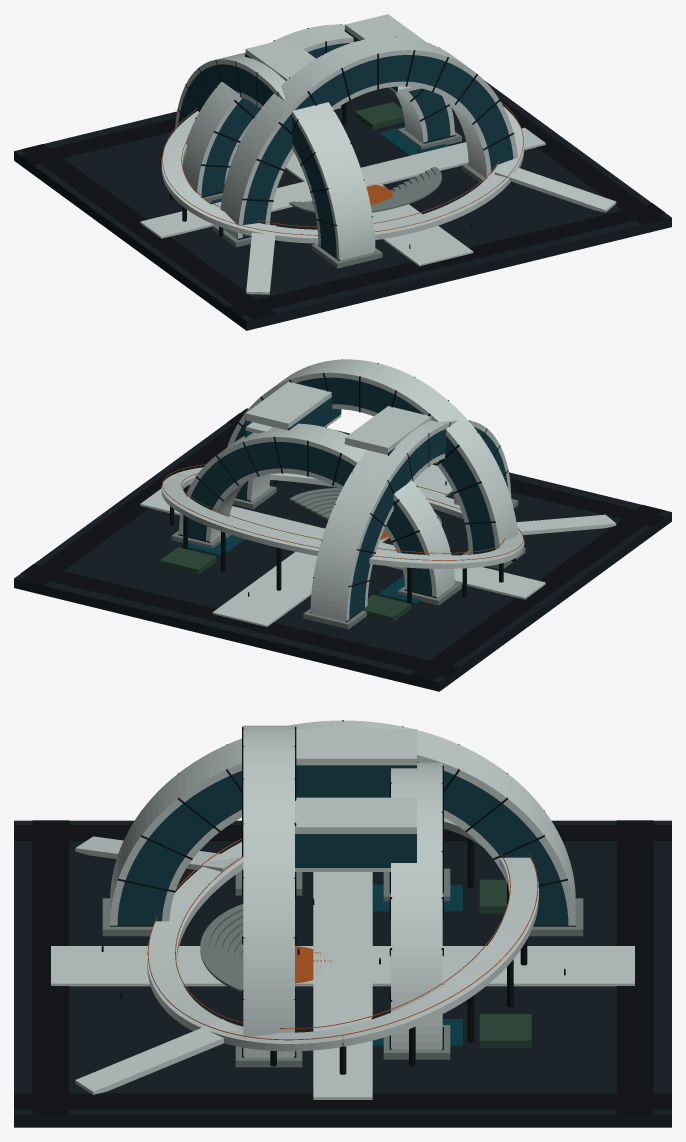
The model's file is a5_orbital_commons.obj.
3 renders of one model, top to bottom at view 1: azimuth 30°, elevation 25°; view 2: azimuth 150°, elevation 25°; view 3: azimuth 270°, elevation 25°, orthographic. The views are drawn at different scales.
Parts seen in each view (by area): view 1: District_base, SOUTH_continuous_glazed_occupied_band, SOUTH_outer_load_shell, TRANSVERSE_outer_load_shell, Continuous_elliptical_public_promenade, E-W_road, Public_ground,_continuous_E-W_axis, N-S_road, TRANSVERSE_glazed_occupied_band.001, NORTH_outer_load_shell, NORTH_continuous_glazed_occupied_band, Public_ground,_continuous_N-S_axis (+12 smaller); view 2: District_base, TRANSVERSE_outer_load_shell, SOUTH_outer_load_shell, Continuous_elliptical_public_promenade, NORTH_continuous_glazed_occupied_band.001, E-W_road.001, NORTH_outer_load_shell, Public_ground,_continuous_N-S_axis, SOUTH_continuous_glazed_occupied_band.001, N-S_road, Public_ground,_continuous_E-W_axis, N-S_road.001 (+12 smaller); view 3: District_base, SOUTH_outer_load_shell, Continuous_elliptical_public_promenade, TRANSVERSE_glazed_occupied_band, Public_ground,_continuous_E-W_axis, Public_ground,_continuous_N-S_axis, NORTH_outer_load_shell, TRANSVERSE_outer_load_shell, E-W_road, E-W_road.001, N-S_road.001, Sky_chamber_crown.001 (+16 smaller).
Part boxes in pixels (box(x1,y1,x2,y2)): District_base: box(14, 47, 671, 330); SOUTH_continuous_glazed_occupied_band: box(242, 55, 513, 237); SOUTH_outer_load_shell: box(220, 36, 517, 238); TRANSVERSE_outer_load_shell: box(175, 52, 375, 260); Continuous_elliptical_public_promenade: box(161, 106, 524, 243); E-W_road: box(227, 203, 665, 316); Public_ground,_continuous_E-W_axis: box(140, 127, 545, 238); N-S_road: box(21, 144, 275, 319); TRANSVERSE_glazed_occupied_band.001: box(178, 64, 336, 257); NORTH_outer_load_shell: box(182, 24, 454, 196); NORTH_continuous_glazed_occupied_band: box(201, 43, 450, 196); Public_ground,_continuous_N-S_axis: box(285, 153, 473, 266); District_base: box(14, 408, 671, 691); TRANSVERSE_outer_load_shell: box(310, 420, 511, 621); SOUTH_outer_load_shell: box(227, 359, 517, 549); Continuous_elliptical_public_promenade: box(161, 467, 524, 568); NORTH_continuous_glazed_occupied_band.001: box(188, 442, 431, 595); E-W_road.001: box(20, 564, 458, 677); NORTH_outer_load_shell: box(178, 423, 454, 597); Public_ground,_continuous_N-S_axis: box(212, 464, 452, 626); SOUTH_continuous_glazed_occupied_band.001: box(234, 377, 495, 554); N-S_road: box(410, 504, 664, 680); Public_ground,_continuous_E-W_axis: box(140, 488, 545, 599); N-S_road.001: box(21, 424, 236, 585); District_base: box(14, 820, 671, 1127); SOUTH_outer_load_shell: box(243, 725, 294, 1057); Continuous_elliptical_public_promenade: box(147, 817, 538, 1051); TRANSVERSE_glazed_occupied_band: box(117, 762, 568, 925); Public_ground,_continuous_E-W_axis: box(313, 872, 372, 1099); Public_ground,_continuous_N-S_axis: box(51, 946, 634, 986); NORTH_outer_load_shell: box(391, 762, 442, 1049); TRANSVERSE_outer_load_shell: box(110, 720, 575, 925); E-W_road: box(32, 820, 69, 1114); E-W_road.001: box(616, 820, 653, 1114); N-S_road.001: box(14, 1093, 671, 1109); Sky_chamber_crown.001: box(295, 797, 416, 833).
Bounding box in the file's own units: 188 × 70 × 178.
